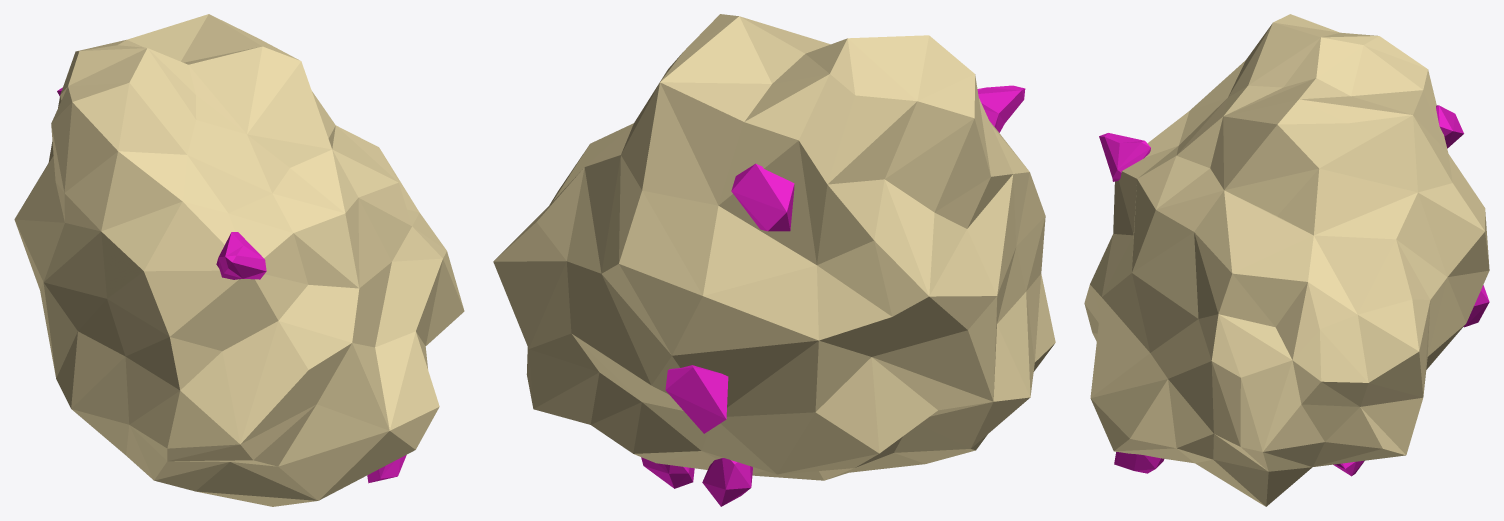
Rendered from CrystalOre (34).fbx.
The picture shows the model from 3 angles, left to right: view 1: azimuth 30°, elevation 25°; view 2: azimuth 150°, elevation 25°; view 3: azimuth 270°, elevation 25°; orthographic projection. The views are drawn at different scales.
Visible parts, largest first — view 1: Asteroid254; view 2: Asteroid254; view 3: Asteroid254.
Part boxes in pixels (box(x1,y1,x2,y2)): Asteroid254: box(14, 14, 464, 506); Asteroid254: box(493, 14, 1055, 506); Asteroid254: box(1084, 14, 1489, 506).
Size of the model in its own units: 375 by 378 by 351.
